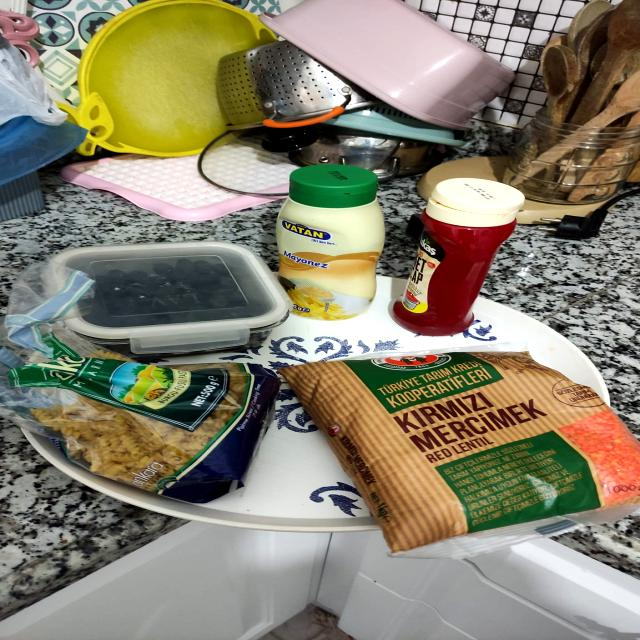fusilli pasta: (0, 350, 281, 488)
ketchup: (392, 175, 531, 332)
mayonnaise: (270, 159, 400, 320)
red lentils: (299, 350, 640, 546)
